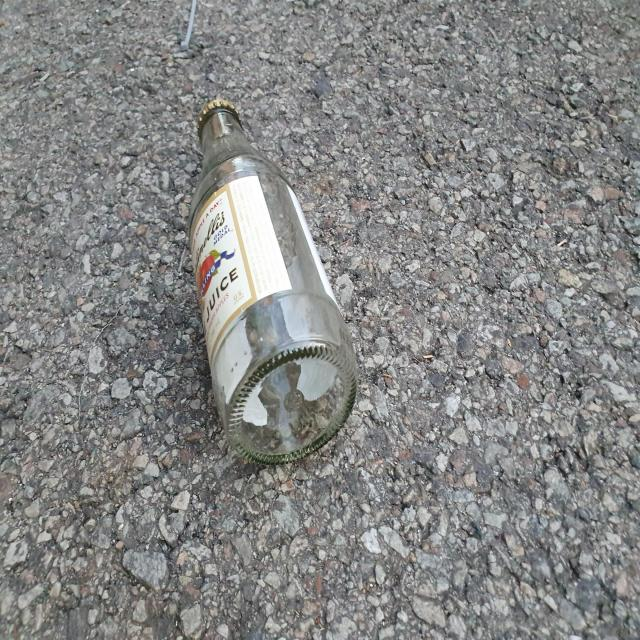glass: (189, 100, 357, 463)
